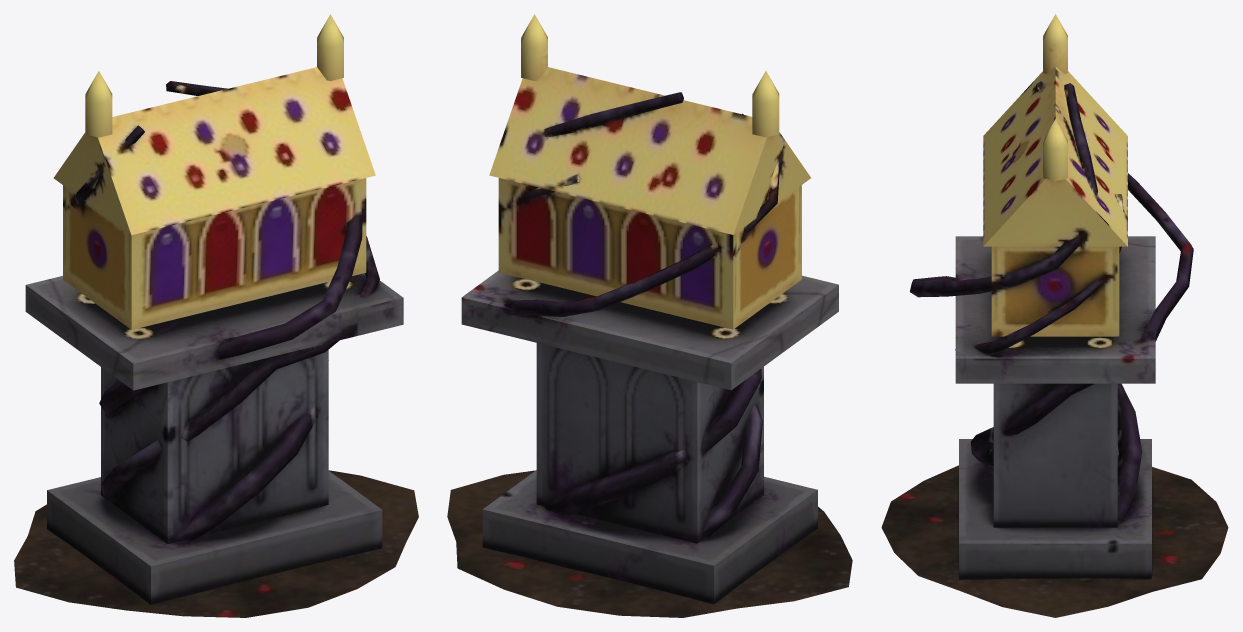
The model's file is thorn_reliquary.glb.
The picture shows the model from 3 angles, left to right: view 1: azimuth 30°, elevation 25°; view 2: azimuth 150°, elevation 25°; view 3: azimuth 270°, elevation 25°; orthographic projection. The views are drawn at different scales.
Visible parts, largest first — view 1: thorn_reliquary; view 2: thorn_reliquary; view 3: thorn_reliquary.
Part boxes in pixels (left/top/right/bottom): thorn_reliquary: left=14, top=14, right=418, bottom=617; thorn_reliquary: left=447, top=14, right=852, bottom=617; thorn_reliquary: left=881, top=14, right=1228, bottom=617.
Bounding box in the file's own units: 1.24 × 1.49 × 1.01.
1 material, 1 textured.
